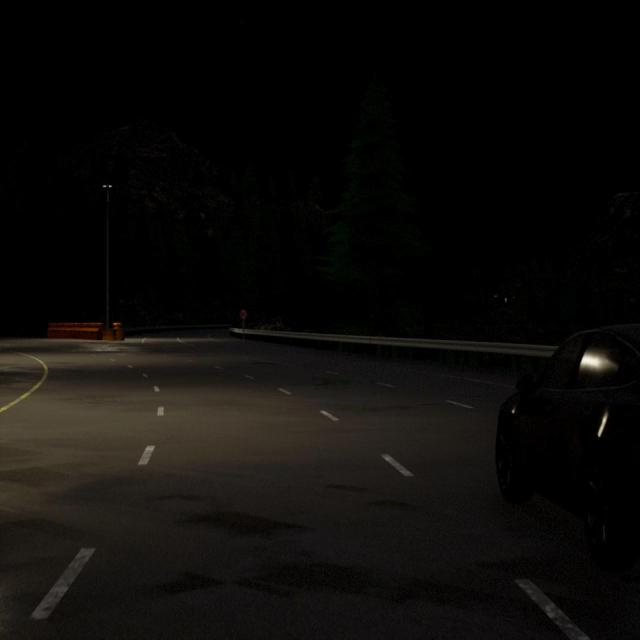Traffic_Signs: (240, 310, 247, 319)
Vehicle: (496, 324, 640, 560)
